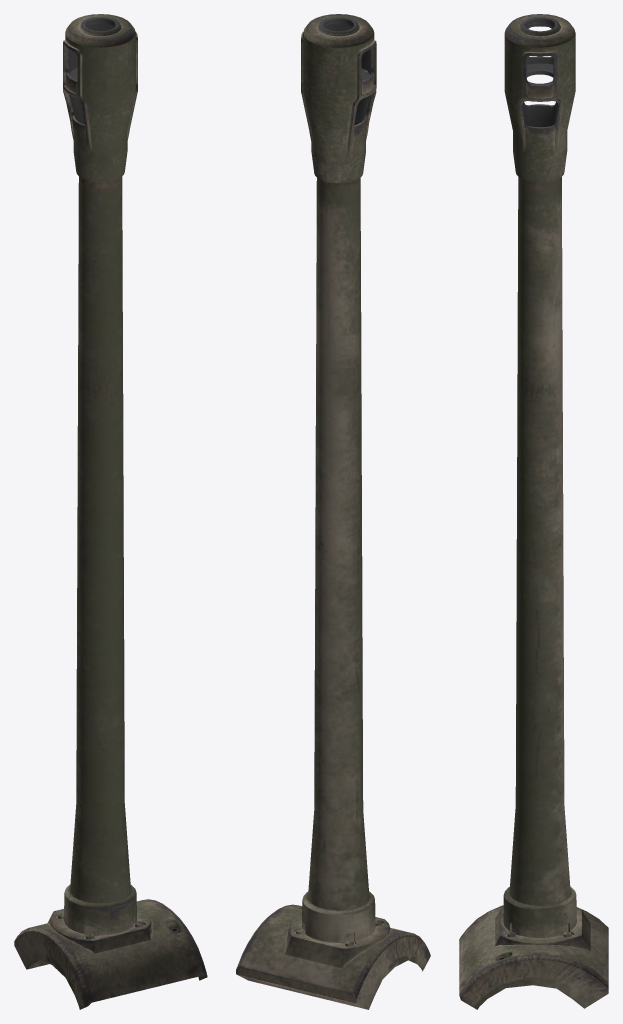
File: Gun_04.glb
3 views of the same model, side by side, from view 1: azimuth 30°, elevation 25°; view 2: azimuth 150°, elevation 25°; view 3: azimuth 270°, elevation 25° (orthographic).
Visible parts, largest first — view 1: set_0_group_0; view 2: set_0_group_0; view 3: set_0_group_0.
Boxes of the visible parts, <box> form: set_0_group_0: <box>14,14,207,1009</box>; set_0_group_0: <box>236,14,430,1009</box>; set_0_group_0: <box>459,14,608,1009</box>.
Bounding box in the file's own units: 0.5423 × 4.12 × 0.5858.
Materials: 1 (1 with a texture image).
